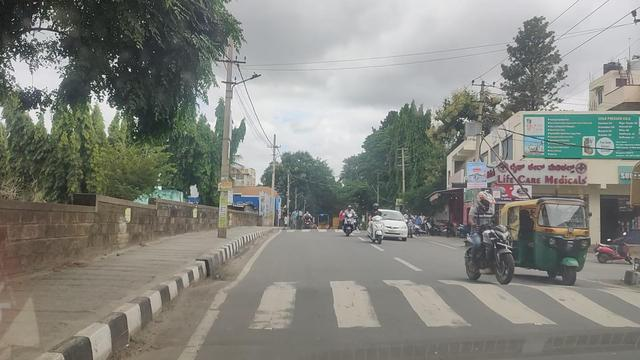LMV: (503, 202, 585, 284), (469, 197, 510, 281)
SpeedBump: (210, 271, 640, 333)
